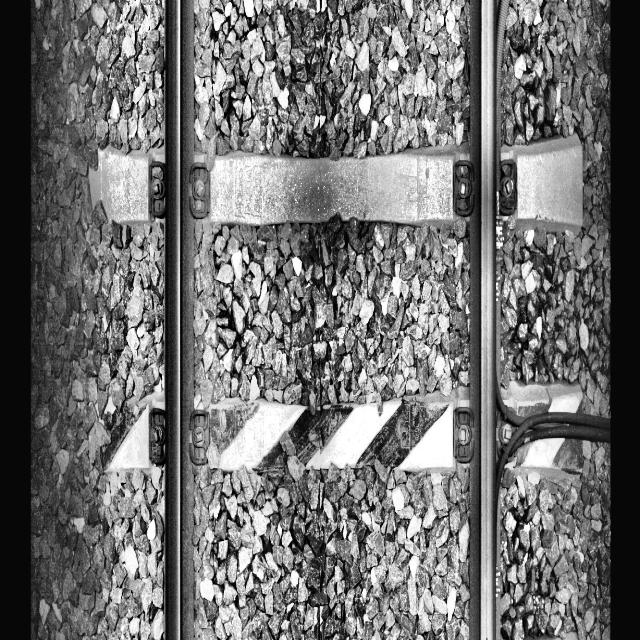Clips: (494, 398, 522, 469), (186, 400, 214, 468), (451, 395, 475, 464), (495, 152, 517, 216), (189, 158, 212, 218), (149, 401, 168, 472), (453, 155, 474, 217), (148, 158, 167, 222)
Sleepers: (83, 370, 586, 483), (87, 143, 587, 235)
